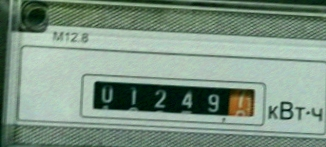0: (99, 85, 114, 105)
1: (126, 86, 139, 108)
2: (151, 88, 168, 111)
4: (180, 90, 194, 110)
7: (234, 90, 248, 110)
9: (206, 93, 220, 115)
screen: (76, 70, 270, 130)
